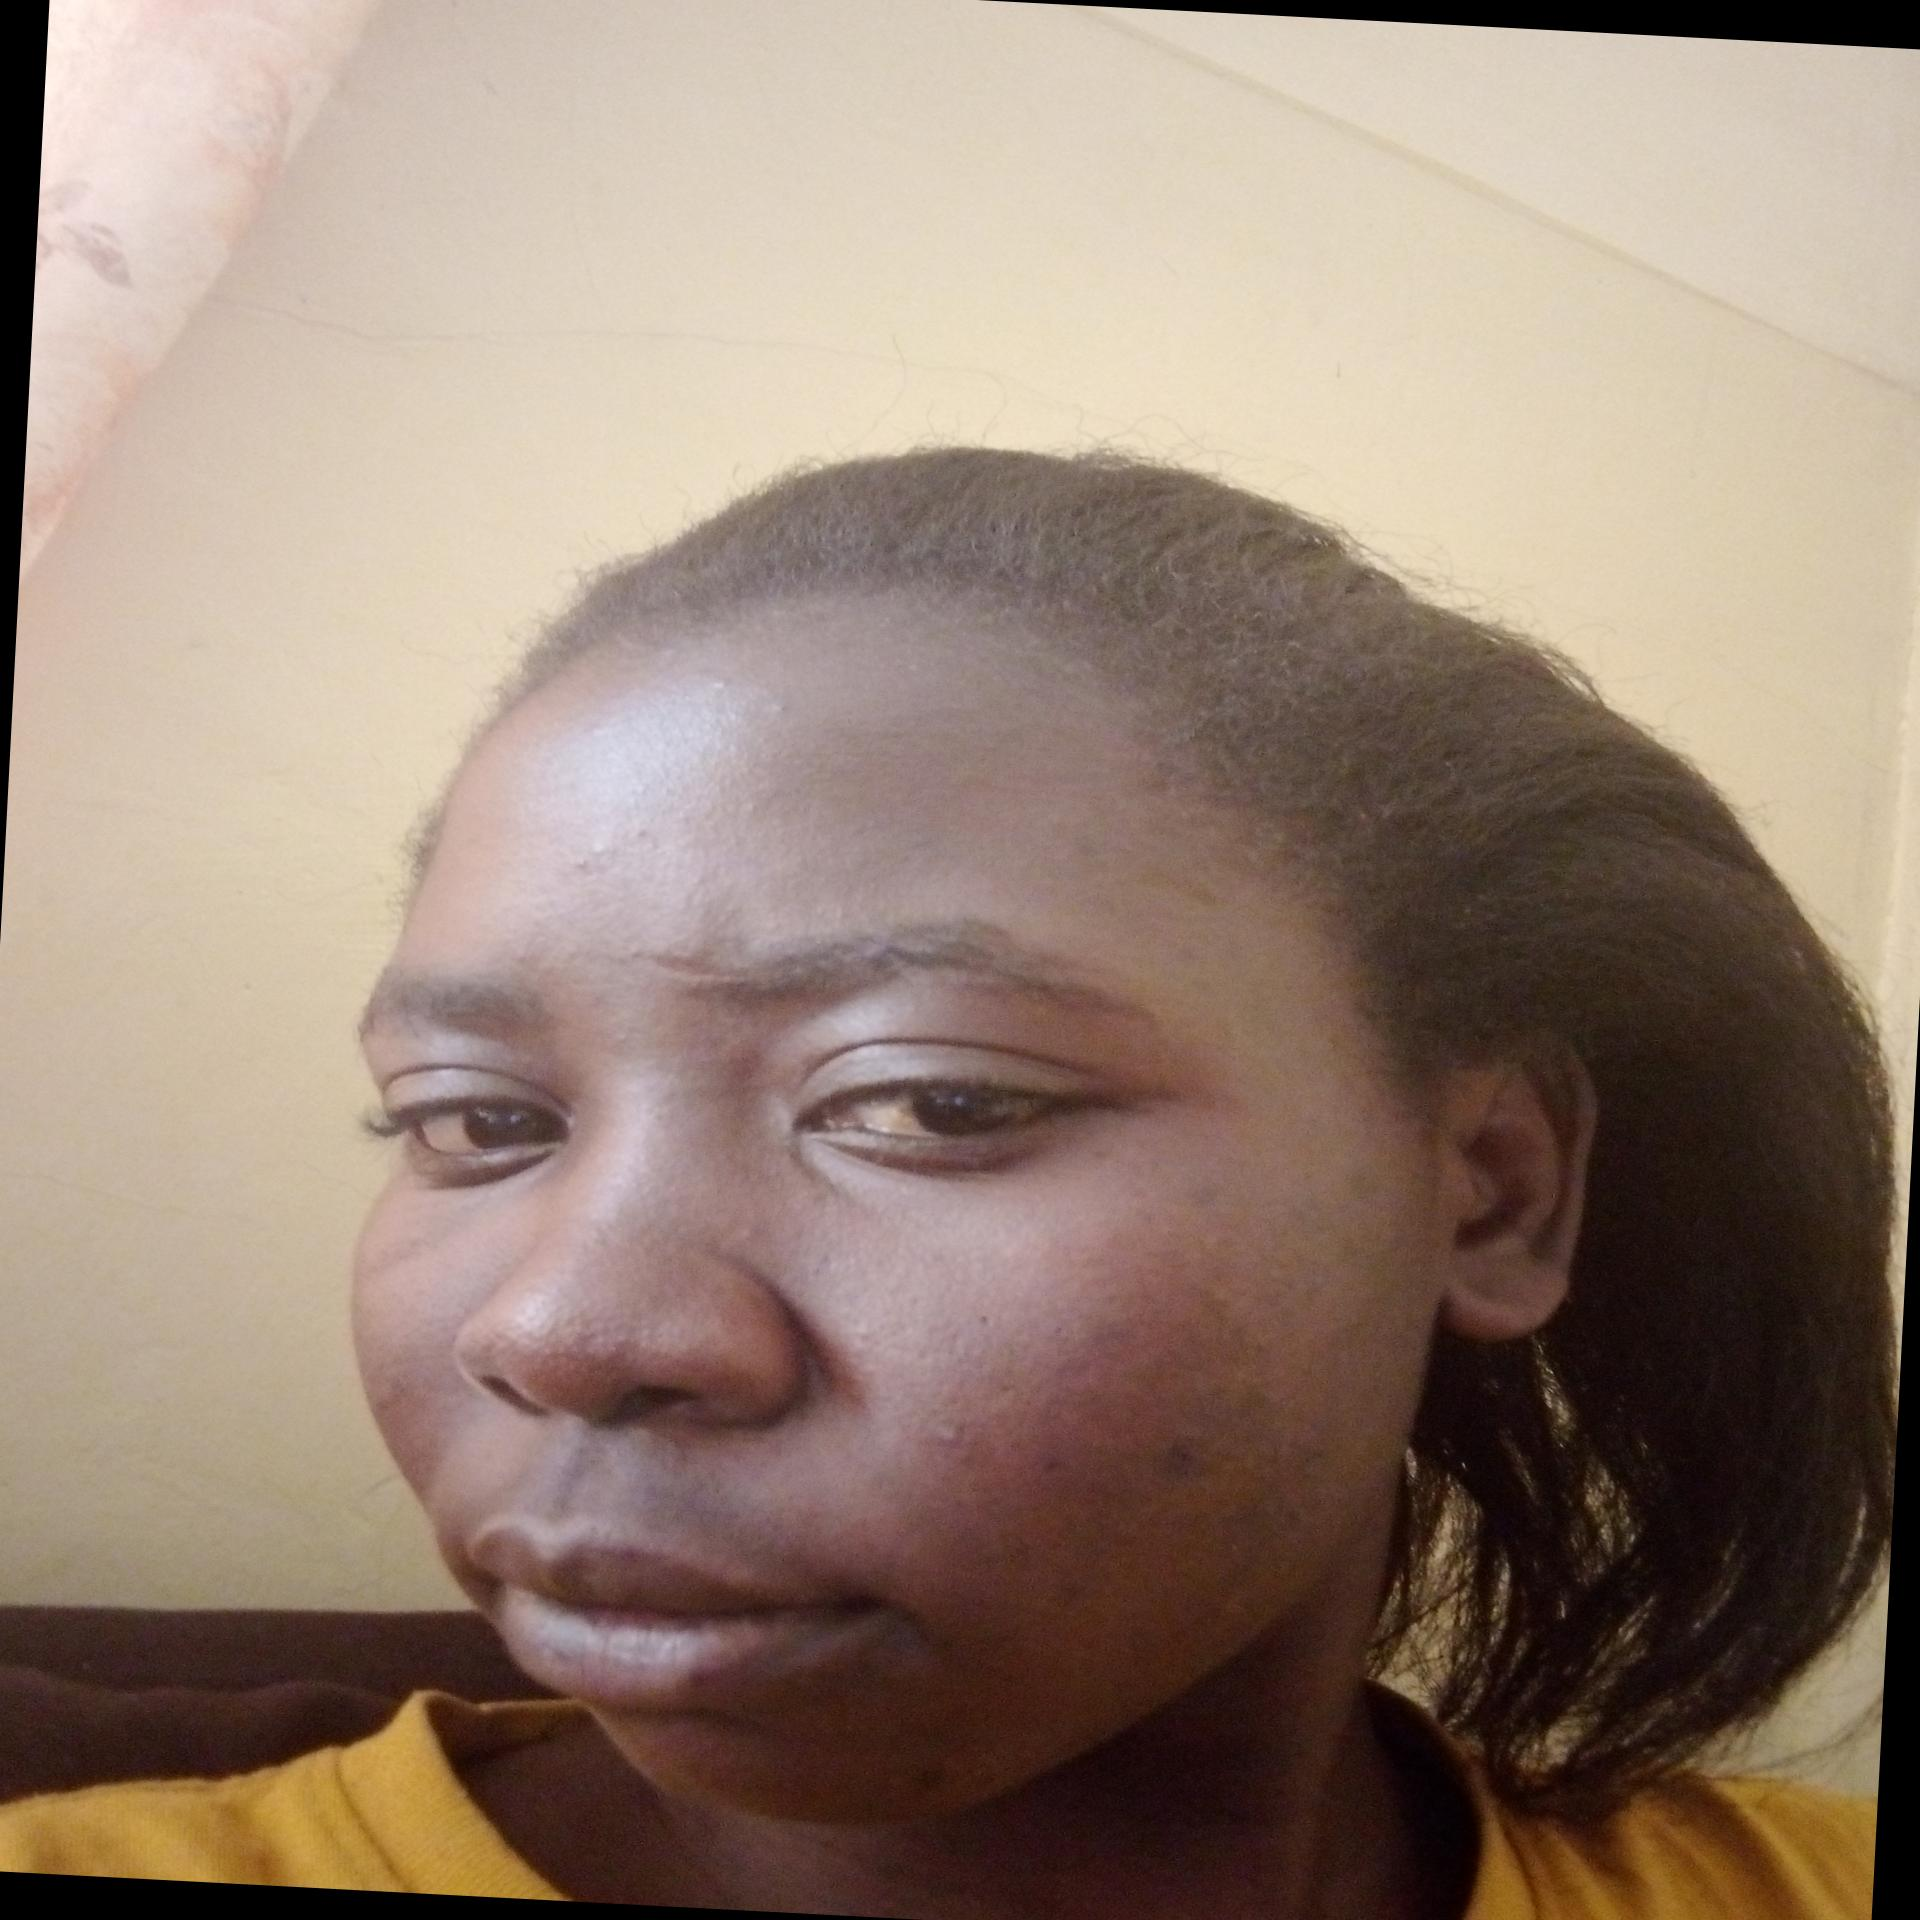Acne: (1143, 1424, 1218, 1482), (891, 1755, 962, 1806), (1268, 1500, 1338, 1547), (907, 1403, 964, 1459), (531, 1637, 577, 1670), (575, 717, 614, 753), (561, 846, 596, 883), (679, 1660, 709, 1697), (696, 668, 731, 698), (756, 698, 786, 721)
